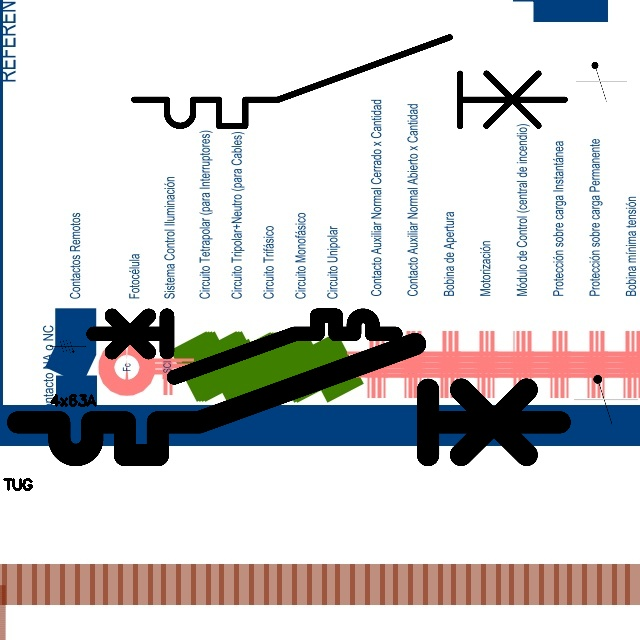interruptor_termomagnetico: (4, 330, 574, 469), (123, 26, 575, 137), (85, 308, 402, 385)
